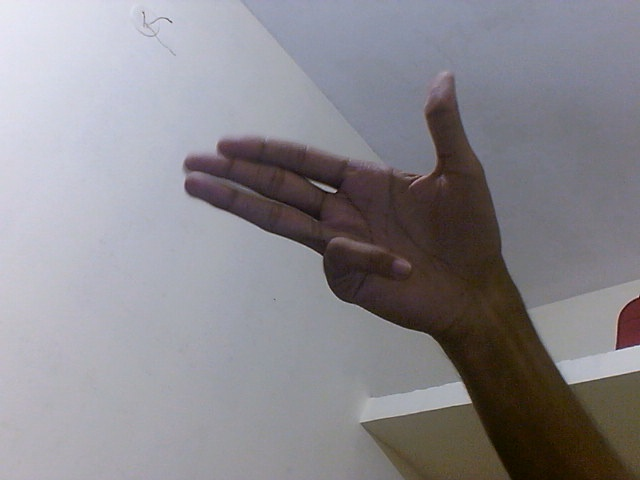hand: (178, 72, 508, 335)
